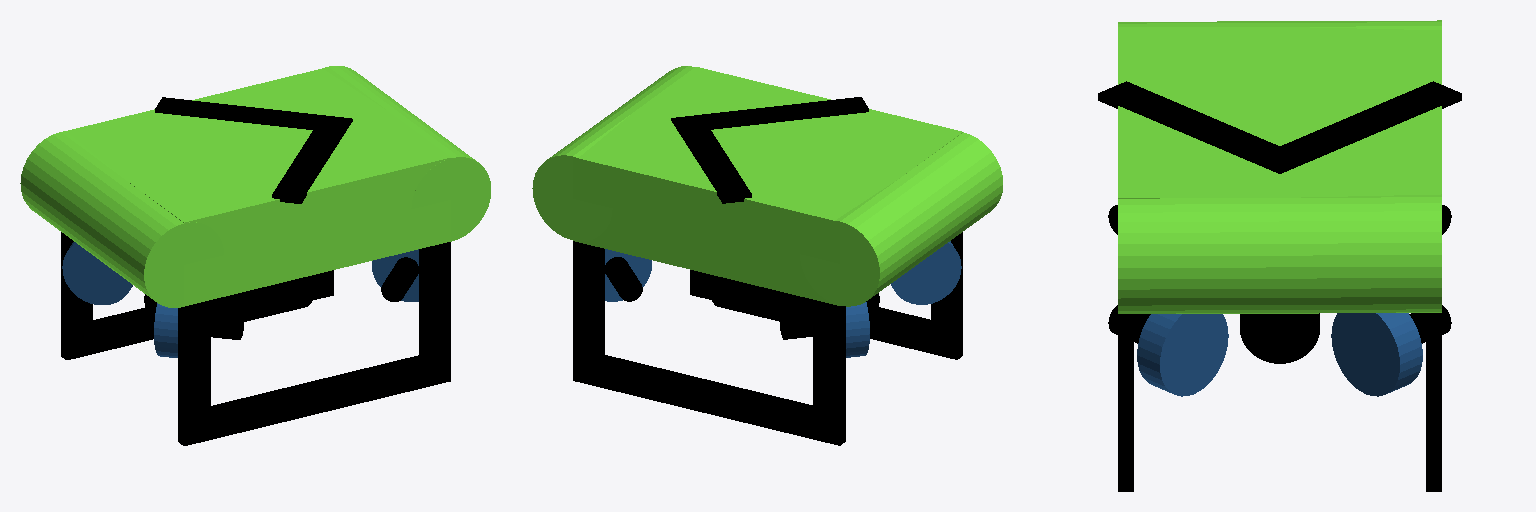
URDF robot description (uvms_alpha_seabotix):
<?xml version="1.0" encoding="utf-8"?>
<!-- =================================================================================== -->
<!-- |    This document was autogenerated by xacro from test_reach5mini.urdf.xacro     | -->
<!-- |    EDITING THIS FILE BY HAND IS NOT RECOMMENDED                                 | -->
<!-- |    Unless you're [author] or [author]  -->
<!-- =================================================================================== -->
<!-- when doing STL -> OBJ conversion, use this to keep origins: https://blender.stackexchange.com/questions/26451/how-to-move-a-complex-object-to-the-origin-without-destroying-it -->
<robot name="uvms_alpha_seabotix">
  <!-- ======================================= -->
  <!-- - - - - - - - MATERIALS - - - - - - - - -->
  <!-- ======================================= -->
    <material name="alpha_black">
      <color rgba="0.3 0.3 0.3 1"/>
    </material>
    <material name="green_v">
      <color rgba="0.5 0.9 0.3 1"/>
    </material>
    <material name="black">
      <color rgba="0 0 0 1"/>
    </material>
    <material name="black_v">
      <color rgba="0 0 0 1"/>
    </material>
    <material name="blue_v">
      <color rgba="0.2 0.4 0.6 1"/>
    </material>
    <material name="orange_v">
      <color rgba="1 .4 0 1"/>
    </material>
    <material name="grey_v">
      <color rgba=".3 .3 .3 1"/>
    </material>
    <material name="red_v">
      <color rgba="1 0 0 1"/>
    </material>

  <!-- ======================================= -->
  <!--               WORLD LINKS               -->
  <!-- ======================================= -->
  <link name="base_link">
    <inertial>
      <mass value="0"/>
      <origin rpy="0 0 0" xyz="0.0 0.0 0.0"/>
      <inertia ixx="0.0" ixy="0.0" ixz="0.0" iyy="0.0" iyz="0.0" izz="0.0"/>
    </inertial>
  </link>
  <joint name="vehicle_to_world" type="prismatic">
    <origin rpy="0 0 0" xyz="0 0 0"/>
    <parent link="base_link"/>
    <child link="vehicle_base_link"/>
  </joint>
  <!-- ======================================= -->
  <!--             VEHICLE LINKS               -->
  <!-- ======================================= -->
  <link name="vehicle_base_link">
    <visual>
      <geometry>
        <box size="0.5 0.4 0.15"/>
      </geometry>
      <material name="green_v"/>
      <!-- <origin rpy="1.57075 0 0" xyz="0 0 0"/> -->
      <!-- <origin rpy="0 0 0" xyz="0 0 0"/> -->
      <!-- <material name="alpha_black"/> -->
    </visual>
    <inertial>
      <!-- Actual *not added* -->
      <mass value="22.2"/> 
      <!-- Assume COM is 6cm below the center of the green box (13.5cm from top of vehicle) -->
      <origin xyz="0.0 0.0 -0.06"/>
      <inertia ixx=".75" ixy="0.0" ixz="0.0" iyy="1.4" iyz="0.0" izz="1.6"/>
    </inertial>
  </link>

<!-- ======= Bottom Frame ======= -->
  <link name="F_R_bar">
    <visual>
      <geometry>
        <box size = "0.25 0.02 0.05"/>
      </geometry>
      <material name="black_v"/>
    </visual>
  </link>
    <joint name="FRBarJoint" type="fixed">
      <parent link="vehicle_base_link"/>
      <child link="F_R_bar"/>
      <origin rpy="0 1.57075 0" xyz="0.225 -.19 -.2"/>
    </joint>
  <link name="F_L_bar">
    <visual>
      <geometry>
        <box size = "0.25 0.02 0.05"/>
      </geometry>
      <material name="black_v"/>
    </visual>
  </link>
    <joint name="FLBarJoint" type="fixed">
      <parent link="vehicle_base_link"/>
      <child link="F_L_bar"/>
      <origin rpy="0 1.57075 0" xyz="0.225 .19 -.2"/>
    </joint>
  <link name="B_L_bar">
      <visual>
        <geometry>
          <box size = "0.25 0.02 0.05"/>
        </geometry>
        <material name="black_v"/>
      </visual>
  </link>
    <joint name="BLBarJoint" type="fixed">
      <parent link="vehicle_base_link"/>
      <child link="B_L_bar"/>
      <origin rpy="0 1.57075 0" xyz="-0.225 .19 -.2"/>
    </joint>
  <link name="B_R_bar">
    <visual>
      <geometry>
        <box size = "0.25 0.02 0.05"/>
      </geometry>
      <material name="black_v"/>
    </visual>
  </link>
    <joint name="BRBarJoint" type="fixed">
      <parent link="vehicle_base_link"/>
      <child link="B_R_bar"/>
      <origin rpy="0 1.57075 0" xyz="-0.225 -.19 -.2"/>
    </joint>
  <link name="R_bar">
    <visual>
      <geometry>
        <box size = "0.5 0.02 0.05"/>
      </geometry>
      <material name="black_v"/>
    </visual>
  </link>
    <joint name="RBarJoint" type="fixed">
      <parent link="vehicle_base_link"/>
      <child link="R_bar"/>
      <origin rpy="0 0 0" xyz="0 -.19 -.3"/>
    </joint>
  <link name="L_bar">
    <visual>
      <geometry>
        <box size = "0.5 0.02 0.05"/>
      </geometry>
      <material name="black_v"/>
    </visual>
  </link>
    <joint name="LBarJoint" type="fixed">
      <parent link="vehicle_base_link"/>
      <child link="L_bar"/>
      <origin rpy="0 0 0" xyz="0 .19 -.3"/>
    </joint>

  <!-- ======= Front/Back Bumpers ======= -->
  <link name="front_bumper">
    <visual>
      <geometry>
        <cylinder length="0.4" radius="0.075"/>
      </geometry>
      <material name="green_v"/>
     </visual>
  </link>
    <joint name="fbump_link" type="fixed">
      <parent link="vehicle_base_link"/>
      <child link="front_bumper"/>
      <origin rpy="1.57579632679 0 0" xyz="0.25 0 0"/>
    </joint>
  <link name="rear_bumper">
      <visual>
        <geometry>
          <cylinder length="0.4" radius="0.075"/>
        </geometry>
        <material name="green_v"/>
      </visual>
  </link>
    <joint name="rbump_link" type="fixed">
      <parent link="vehicle_base_link"/>
      <child link="rear_bumper"/>
      <origin rpy="1.57579632679 0 0" xyz="-0.25 0 0"/>
    </joint>

  <!-- ======= Front Arrow ======= -->
  <link name="l_arrow">
    <visual>
      <geometry>
        <box size="0.05 0.318 0.01"/>
      </geometry>
      <material name="black_v"/>
    </visual>
  </link>
    <joint name="l_arrow_link" type="fixed">
      <parent link="vehicle_base_link"/>
      <child link="l_arrow"/>
      <origin rpy="0 0 0.787898163397" xyz="0.05 0.095 0.075"/>
    </joint>
  <link name="r_arrow">
    <visual>
      <geometry>
        <box size="0.05 0.318 0.01"/>
      </geometry>
      <material name="black_v"/>
    </visual>
  </link>
    <joint name="r_arrow_link" type="fixed">
      <parent link="vehicle_base_link"/>
      <child link="r_arrow"/>
      <origin rpy="0 0 -0.787898163397" xyz="0.05 -0.095 0.075"/>
    </joint>

  <!-- ======= Thrusters ======= -->
  <link name="sf_fan">
    <visual>
      <geometry>
        <cylinder length="0.04" radius="0.06"/>
      </geometry>
      <material name="blue_v"/>
    </visual>
  </link>
    <joint name="base_to_sf_fan" type="fixed">
      <parent link="vehicle_base_link"/>
      <child link="sf_fan"/>
      <origin rpy="0 1.57579632679 0.785" xyz="0.22 -0.12 -0.14"/>
    </joint>
  <link name="sf_thruster">
    <visual>
      <geometry>
        <cylinder length="0.1" radius="0.02"/>
      </geometry>
      <material name="black_v"/>
    </visual>
  </link>
    <joint name="sf_fan_thruster_joint" type="fixed">
      <parent link="sf_fan"/>
      <child link="sf_thruster"/>
      <origin xyz="0 0 -0.06"/>
    </joint>
  <link name="pf_fan">
    <visual>
      <geometry>
        <cylinder length="0.04" radius="0.06"/>
      </geometry>
      <material name="blue_v"/>
    </visual>
  </link>
    <joint name="base_to_pf_fan" type="fixed">
      <parent link="vehicle_base_link"/>
      <child link="pf_fan"/>
      <origin rpy="0 1.57579632679 -0.785" xyz="0.22 0.12 -0.14"/>
    </joint>
  <link name="pf_thruster">
    <visual>
      <geometry>
        <cylinder length="0.1" radius="0.02"/>
      </geometry>
      <material name="black_v"/>
    </visual>
  </link>
    <joint name="pf_fan_thruster_joint" type="fixed">
      <parent link="pf_fan"/>
      <child link="pf_thruster"/>
      <origin xyz="0 0 -0.06"/>
    </joint>
  <link name="sa_fan">
    <visual>
      <geometry>
        <cylinder length="0.04" radius="0.06"/>
      </geometry>
      <material name="blue_v"/>
    </visual>
  </link>
    <joint name="base_to_sa_fan" type="fixed">
      <parent link="vehicle_base_link"/>
      <child link="sa_fan"/>
      <origin rpy="0 -1.57579632679 -0.785" xyz="-0.22 -0.12 -0.14"/>
    </joint>
  <link name="sa_thruster">
    <visual>
      <geometry>
        <cylinder length="0.1" radius="0.02"/>
      </geometry>
      <material name="black_v"/>
    </visual>
  </link>
    <joint name="sa_fan_thruster_joint" type="fixed">
      <parent link="sa_fan"/>
      <child link="sa_thruster"/>
      <origin xyz="0 0 -0.06"/>
    </joint>
  <link name="pa_fan">
    <visual>
      <geometry>
        <cylinder length="0.04" radius="0.06"/>
      </geometry>
      <material name="blue_v"/>
    </visual>
  </link>
    <joint name="base_to_pa_fan" type="fixed">
      <parent link="vehicle_base_link"/>
      <child link="pa_fan"/>
      <origin rpy="0 -1.57579632679 0.785" xyz="-0.22 0.12 -0.14"/>
    </joint>
  <link name="pa_thruster">
    <visual>
      <geometry>
        <cylinder length="0.1" radius="0.02"/>
      </geometry>
      <material name="black_v"/>
    </visual>
  </link>
    <joint name="pa_fan_thruster_joint" type="fixed">
      <parent link="pa_fan"/>
      <child link="pa_thruster"/>
      <origin xyz="0 0 -0.06"/>
    </joint>

  <link name="seabotix_bottle">
    <visual>
      <geometry>
        <cylinder length="0.26" radius="0.05"/>
      </geometry>
      <material name="black_v"/>
    </visual>
  </link>
    <joint name="sbottle_link" type="fixed">
      <parent link="vehicle_base_link"/>
      <child link="seabotix_bottle"/>
      <origin rpy="0 1.57579632679 0" xyz="-0.05 0 -0.18"/>
    </joint>

  <joint name="arm_to_vehicle" type="fixed">
    <origin rpy="3.1415 0 0" xyz=".45 0 0"/>
    <parent link="vehicle_base_link"/>
    <child link="r5m_base_link"/>
  </joint>
  <!-- ======================================= -->
  <!--               ALPHA LINKS               -->
  <!-- ======================================= -->
  <link name="r5m_base_link">
    <visual>
      <geometry>
        <!-- <mesh filename="[local-path]/Stuff/coupledDynamics/meshes/archived_meshes/Base3.obj"/> -->
        <mesh filename="[local-path]/onr-dynamics-julia/meshes/Base3.obj"/>
      </geometry>
      <origin rpy="1.57075 0 0" xyz="0 0 0"/>
      <!-- <origin rpy="0 0 0" xyz="0 0 0"/> -->
      <material name="alpha_black"/>
    </visual>
    <collision>
      <geometry>
        <cylinder length="0.150" radius="0.020"/>
      </geometry>
      <origin rpy="0 1.57075 0" xyz="-0.075 0 0"/>
    </collision>
    <inertial>
      <!-- Actual + added -->
      <mass value="0.53"/> 
      <origin xyz="-0.075 -0.006 -0.003"/>
      <inertia ixx="0.000106" ixy="0.000139" ixz="0.000115" iyy="0.00433" iyz="0.000003" izz="0.004348"/>
    </inertial>
  </link>
  <joint name="r5m_joint5" type="revolute">
    <parent link="r5m_base_link"/>
    <child link="r5m_shoulder_link"/>
    <origin rpy="0 0 3.141592" xyz="0 0 0"/>
    <axis xyz="0 0 1"/>
    <limit effort="9.0" lower="0.0" upper="6.2" velocity="0.5"/>
  </joint>
  <link name="r5m_shoulder_link">
    <visual>
      <geometry>
        <!-- <mesh filename="[local-path]/Stuff/coupledDynamics/meshes/archived_meshes/ShoulderJoint3.obj"/> -->
        <mesh filename="[local-path]/onr-dynamics-julia/meshes/ShoulderJoint3.obj"/>
      </geometry>
      <material name="alpha_black"/>
      <!-- <origin rpy="0 3.1415 -1.57075" xyz="0 0 0"/> -->
      <origin rpy="-1.57075 3.1415 1.57075" xyz="0 0 0"/>
    </visual>
    <collision>
      <geometry>
        <cylinder length="0.066" radius="0.020"/>
      </geometry>
      <origin rpy="0 0 0" xyz="0 0 0.010"/>
    </collision>
    <inertial>
      <!-- Actual + added -->
      <mass value="0.226"/>
      <origin xyz="0.005 -0.001 0.016"/>
      <inertia ixx="0.000196" ixy="0.000005" ixz="0.000054" iyy="0.000220" iyz="0.000003" izz="0.000067"/>
    </inertial>
  </link>
  <joint name="r5m_joint4" type="revolute">
    <parent link="r5m_shoulder_link"/>
    <child link="r5m_upper_arm_link"/>
    <!-- <origin rpy="1.57075 1.3 0" xyz="0.020 0 0.046"/> -->
    <origin rpy="1.57075 -0.27079 0" xyz="0.020 0 0.046"/>
    <axis xyz="0 0 1"/>
    <limit effort="9.0" lower="0.0" upper="3.5" velocity="0.5"/>
  </joint>
  <link name="r5m_upper_arm_link">
    <visual>
      <geometry>
        <!-- <mesh filename="[local-path]/Stuff/coupledDynamics/meshes/archived_meshes/UpperArm3.obj"/> -->
        <mesh filename="[local-path]/onr-dynamics-julia/meshes/UpperArm3.obj"/>
      </geometry>
      <!-- <origin rpy="0 -1.57075 -0.2655555" xyz="0 0 -0.075"/> -->
      <origin rpy="0 -1.57075 1.305240" xyz="0 0 -0.075"/>
      <material name="alpha_black"/>
    </visual>
    <collision>
      <geometry>
        <cylinder length="0.145" radius="0.020"/>
      </geometry>
      <origin rpy="0 1.57075 -0.27075" xyz="0.075 0 0"/>
    </collision>
    <collision>
      <geometry>
        <cylinder length="0.040" radius="0.020"/>
      </geometry>
      <origin rpy="0 0 0" xyz="0 0 0"/>
    </collision>
    <inertial>
      <mass value="0.630"/>
      <origin xyz="0.073 0.0 0.0"/>
      <inertia ixx="0.000087" ixy="-0.000076" ixz="-0.000010" iyy="0.004906" iyz="0.000000" izz="0.004929"/>
    </inertial>
  </link>
  <joint name="r5m_joint3" type="revolute">
    <parent link="r5m_upper_arm_link"/>
    <child link="r5m_forearm_link"/>
    <origin rpy="3.1415 0 1.3" xyz="0.15 0 0"/>
    <axis xyz="0 0 1"/>
    <limit effort="9.0" lower="0.0" upper="3.5" velocity="0.5"/>
  </joint>
  <link name="r5m_forearm_link">
    <visual>
      <geometry>
        <!-- <mesh filename="[local-path]/Stuff/coupledDynamics/meshes/archived_meshes/ElbowJoint3.obj"/> -->
        <mesh filename="[local-path]/onr-dynamics-julia/meshes/ElbowJoint3.obj"/>
      </geometry>
      <origin rpy="1.57075 0 0" xyz="0 0 0"/>
      <material name="alpha_black"/>
    </visual>
    <collision>
      <geometry>
        <cylinder length="0.040" radius="0.020"/>
      </geometry>
      <origin rpy="0 0 0" xyz="0 0 0"/>
    </collision>
    <inertial>
      <mass value="0.147"/>
      <origin xyz="0.017 -0.026 -0.002"/>
      <inertia ixx="0.000127" ixy="-0.000061" ixz="-0.000001" iyy="0.000062" iyz="0.000000" izz="0.000163"/>
    </inertial>
  </link>
    <joint name="r5m_joint2" type="revolute">
    <parent link="r5m_forearm_link"/>
    <child link="r5m_wrist_link"/>
    <origin rpy="-1.57075 -0.5 0" xyz="0.020 0 0"/>
    <axis xyz="0 0 1"/>
    <limit effort="5.0" lower="0.0" upper="6.0" velocity="1.0"/>
  </joint>
  <link name="r5m_wrist_link">
    <visual>
      <geometry>
        <!-- <mesh filename="[local-path]/Stuff/coupledDynamics/meshes/archived_meshes/Wrist3.obj"/> -->
        <mesh filename="[local-path]/onr-dynamics-julia/meshes/Wrist3.obj"/>
      </geometry>
      <origin rpy="1.57075 0 0" xyz="0 0 0"/>
      <material name="alpha_black"/>
    </visual>
    <collision>
      <geometry>
        <cylinder length="0.140" radius="0.020"/>
      </geometry>
      <origin rpy="0 0 0" xyz="0 0 -0.070"/>
    </collision>
    <inertial>
      <mass value="0.559"/>
      <origin xyz="0.0 0.003 -0.098"/>
      <inertia ixx="0.006152" ixy="-0.000002" ixz="-0.000004" iyy="0.006177" iyz="0.000000" izz="0.000079"/>
    </inertial>
  </link>
  <link name="r5m_jaw1">
    <visual>
      <geometry>
        <!-- <mesh filename="[local-path]/Stuff/coupledDynamics/meshes/archived_meshes/Jaw1_v2.obj"/> -->
        <mesh filename="[local-path]/onr-dynamics-julia/meshes/Jaw1_v2.obj"/>
      </geometry>
      <origin rpy="1.57075 0 0" xyz="0 0 0"/>
      <material name="alpha_black"/>
    </visual>
    <collision>
      <geometry>
        <box size="0.03 0.09 0.01"/>
      </geometry>
      <origin rpy="0 0 0" xyz="-0.01 -0.045 0"/>
    </collision>
    <!-- TODO: GET APPROPOATE MASSES (this is 50g ball at end) -->
    <inertial>
      <mass value="0.05"/>
      <origin xyz="-.01 -0.045 0.0"/>
      <inertia ixx="0.000010" ixy="0.0" ixz="0.0" iyy="0.000010" iyz="0.0" izz="0.000010"/>
    </inertial>
  </link>
  <link name="r5m_jaw2">
    <visual>
      <geometry>
        <!-- <mesh filename="[local-path]/Stuff/coupledDynamics/meshes/archived_meshes/Jaw2_v2.obj"/> -->
        <mesh filename="[local-path]/onr-dynamics-julia/meshes/Jaw2_v2.obj"/>
      </geometry>
      <origin rpy="1.57075 0 0" xyz="0 0 0"/>
      <material name="alpha_black"/>
    </visual>
    <collision>
      <geometry>
        <box size="0.03 0.09 0.01"/>
      </geometry>
      <origin rpy="0 0 0" xyz="0.01 -0.045 0"/>
    </collision>
    <!-- TODO: GET APPROPOATE MASSES -(this is 50g ball at end)  -->
    <inertial>
      <mass value="0.5"/>
      <origin xyz="0.01 -0.045 0.0"/>
      <inertia ixx="0.000010" ixy="0.0" ixz="0.0" iyy="0.000010" iyz="0.0" izz="0.000010"/>
    </inertial>
  </link>
  <joint name="r5m_joint1_1" type="fixed">
    <parent link="r5m_wrist_link"/>
    <child link="r5m_jaw2"/>
    <origin rpy="1.57075 0 0" xyz="-0.015 0 -0.140"/>
    <axis xyz="0 0 -1"/>
    <limit effort="5.0" lower="0.0" upper="0.5" velocity="0.5"/>
  </joint>
  <joint name="r5m_joint1_2" type="fixed">
    <parent link="r5m_wrist_link"/>
    <child link="r5m_jaw1"/>
    <origin rpy="1.57075 0 0" xyz="0.015 0 -0.140"/>
    <axis xyz="0 0 1"/>
    <limit effort="5.0" lower="0.0" upper="0.5" velocity="0.5"/>
  </joint>  
  <link name="r5m_jaw"/>
  <joint name="r5m_joint_jaw" type="fixed">
    <parent link="r5m_wrist_link"/>
    <child link="r5m_jaw"/>
    <origin rpy="0 0 1.5707" xyz="0 0 -0.190"/>
  </joint>
</robot>

--- Render facts (derived) ---
The picture shows the robot from 3 angles, left to right: view 1: azimuth 30°, elevation 25°; view 2: azimuth 150°, elevation 25°; view 3: azimuth 270°, elevation 25°; orthographic projection.
Model uvms_alpha_seabotix with 29 links and 28 joints (4 revolute, 1 prismatic, 23 fixed), rooted at base_link, posed every joint at zero.
Links seen in each view (by area): view 1: vehicle_base_link, rear_bumper, R_bar, front_bumper, F_R_bar, B_R_bar, seabotix_bottle, r_arrow, L_bar, l_arrow, pa_fan, B_L_bar (+4 smaller); view 2: vehicle_base_link, rear_bumper, L_bar, front_bumper, F_L_bar, B_L_bar, seabotix_bottle, l_arrow, R_bar, r_arrow, sa_fan, B_R_bar (+4 smaller); view 3: vehicle_base_link, front_bumper, pf_fan, sf_fan, l_arrow, r_arrow, seabotix_bottle, F_L_bar, F_R_bar, rear_bumper.
Link boxes in pixels (x1,y1,x2,y2): vehicle_base_link: [67, 68, 450, 306]; rear_bumper: [20, 131, 223, 307]; R_bar: [178, 355, 442, 445]; front_bumper: [323, 66, 490, 241]; F_R_bar: [419, 242, 450, 387]; B_R_bar: [178, 300, 210, 445]; seabotix_bottle: [144, 275, 313, 331]; r_arrow: [272, 115, 352, 203]; L_bar: [61, 270, 333, 359]; l_arrow: [155, 97, 351, 129]; pa_fan: [62, 242, 132, 304]; B_L_bar: [61, 232, 92, 357]; vehicle_base_link: [573, 67, 962, 305]; rear_bumper: [800, 132, 1002, 306]; L_bar: [575, 355, 845, 445]; front_bumper: [532, 66, 694, 241]; F_L_bar: [573, 241, 604, 383]; B_L_bar: [813, 300, 845, 429]; seabotix_bottle: [710, 275, 879, 330]; l_arrow: [671, 115, 751, 203]; R_bar: [690, 270, 962, 359]; r_arrow: [675, 97, 868, 129]; sa_fan: [891, 241, 961, 304]; B_R_bar: [931, 232, 962, 355]; vehicle_base_link: [1118, 27, 1441, 198]; front_bumper: [1118, 194, 1441, 313]; pf_fan: [1331, 313, 1422, 396]; sf_fan: [1137, 314, 1228, 396]; l_arrow: [1252, 81, 1461, 173]; r_arrow: [1098, 81, 1307, 173]; seabotix_bottle: [1240, 313, 1319, 363]; F_L_bar: [1426, 313, 1441, 491]; F_R_bar: [1118, 314, 1133, 491]; rear_bumper: [1118, 20, 1441, 29].
Size in the robot's own frame: 0.65 by 0.4497 by 0.405 metres.
Geometry: only primitive shapes (box / cylinder / sphere) drawn; not drawn: 7 mesh visuals (reference in a form the renderer does not follow).
